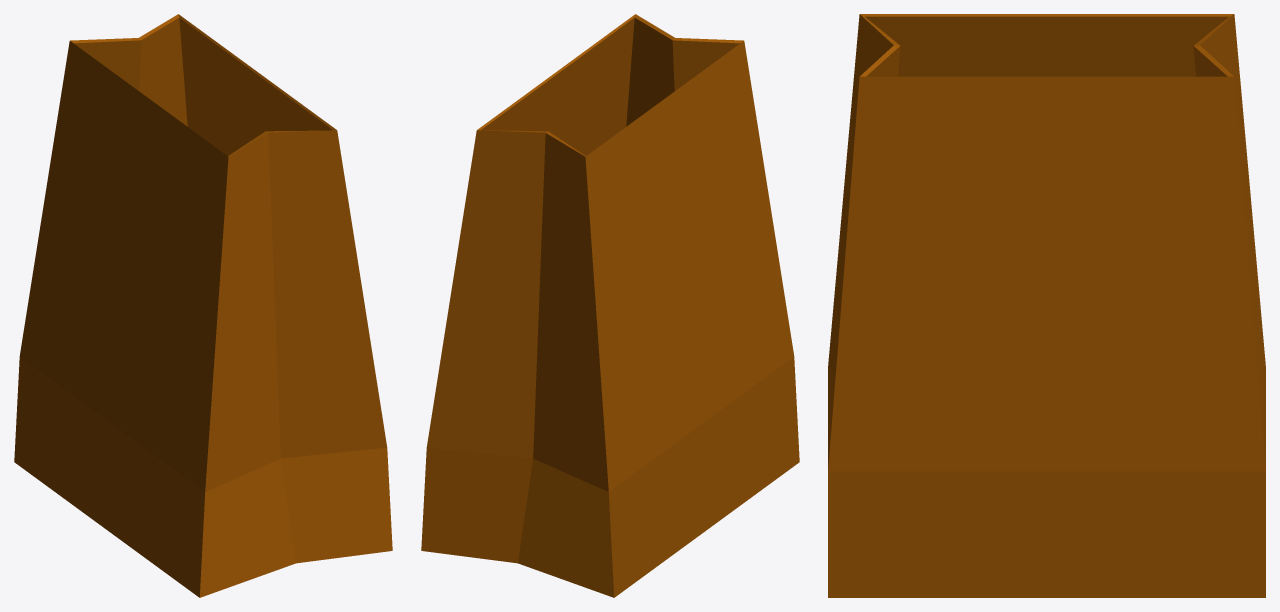
File: Bag.fbx
The picture shows the model from 3 angles, left to right: view 1: azimuth 30°, elevation 25°; view 2: azimuth 150°, elevation 25°; view 3: azimuth 270°, elevation 25°; orthographic projection. The views are drawn at different scales.
Parts seen in each view (by area): view 1: Cube; view 2: Cube; view 3: Cube.
Part boxes in pixels (x1,y1,x2,y2): Cube: (14,14,392,597); Cube: (421,14,799,597); Cube: (828,14,1265,597).
Bounding box in the file's own units: 204 × 425 × 340.
